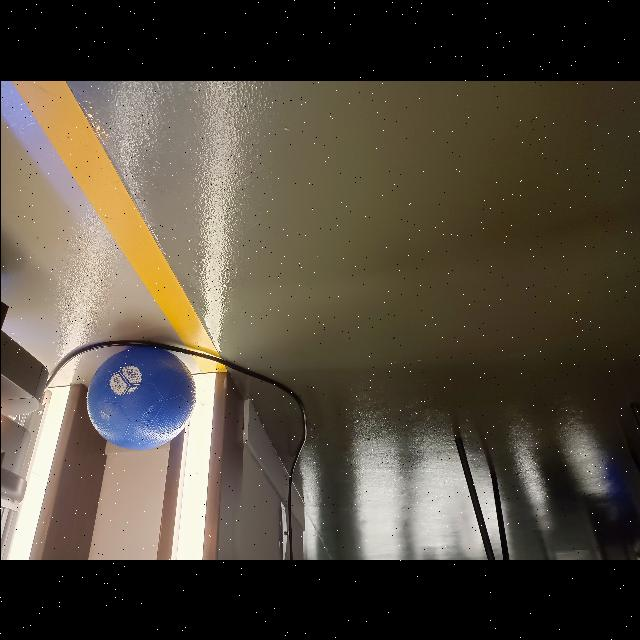B: (81, 344, 193, 450)
